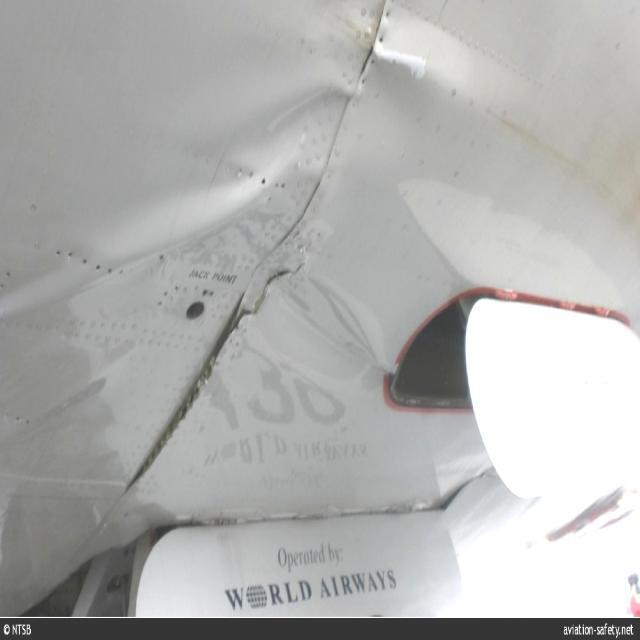crack: (232, 260, 305, 336)
